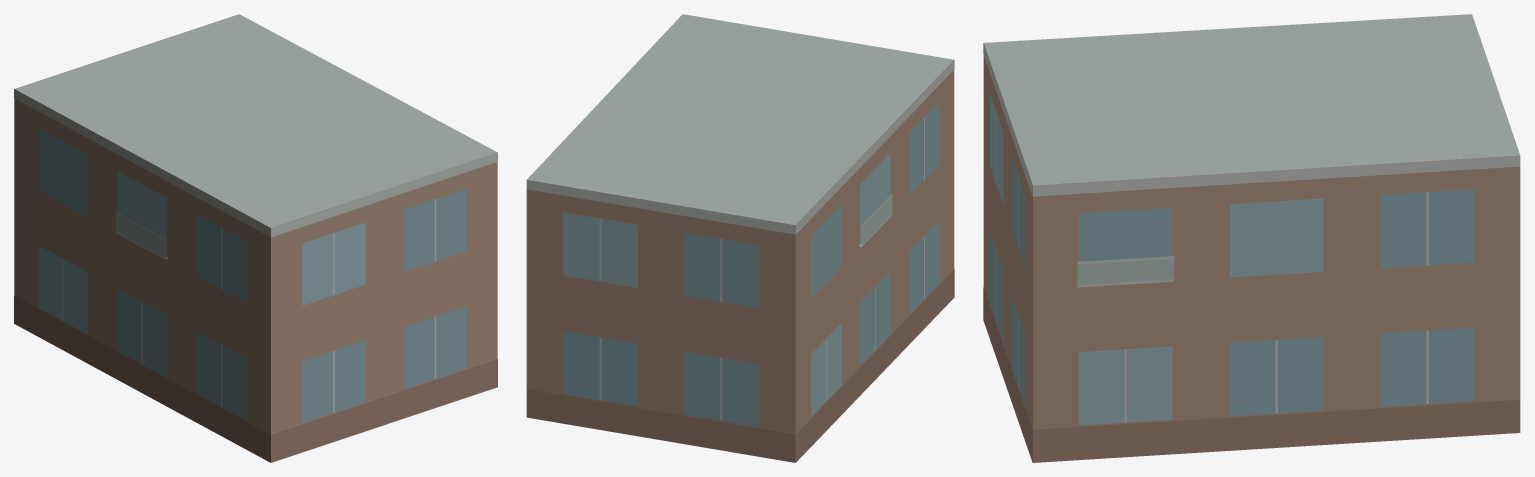
The model's file is survey-upis-32619623.glb.
3 views of the same model, side by side, from view 1: azimuth 30°, elevation 25°; view 2: azimuth 150°, elevation 25°; view 3: azimuth 270°, elevation 25° (orthographic). The views are drawn at different scales.
Parts seen in each view (by area): view 1: survey-upis-32619623.tmp; view 2: survey-upis-32619623.tmp; view 3: survey-upis-32619623.tmp.
Part boxes in pixels (x1,y1,x2,y2): survey-upis-32619623.tmp: (14,14,497,462); survey-upis-32619623.tmp: (526,14,954,462); survey-upis-32619623.tmp: (983,14,1520,462).
Bounding box in the file's own units: 8.1 × 6.1 × 10.71.
